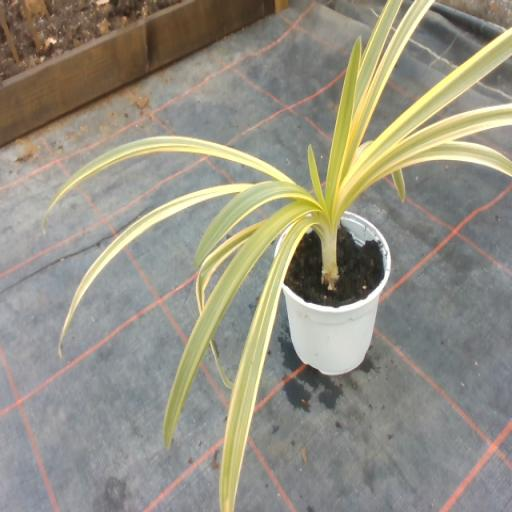Agapanthus-praecox: (164, 202, 311, 447), (59, 183, 249, 356), (342, 29, 511, 198), (220, 218, 315, 511), (43, 137, 292, 231), (363, 105, 511, 183), (356, 0, 433, 145), (194, 181, 316, 265), (196, 223, 262, 311), (356, 0, 402, 110), (327, 42, 360, 183), (423, 142, 511, 175), (308, 145, 326, 209), (210, 340, 233, 388)
